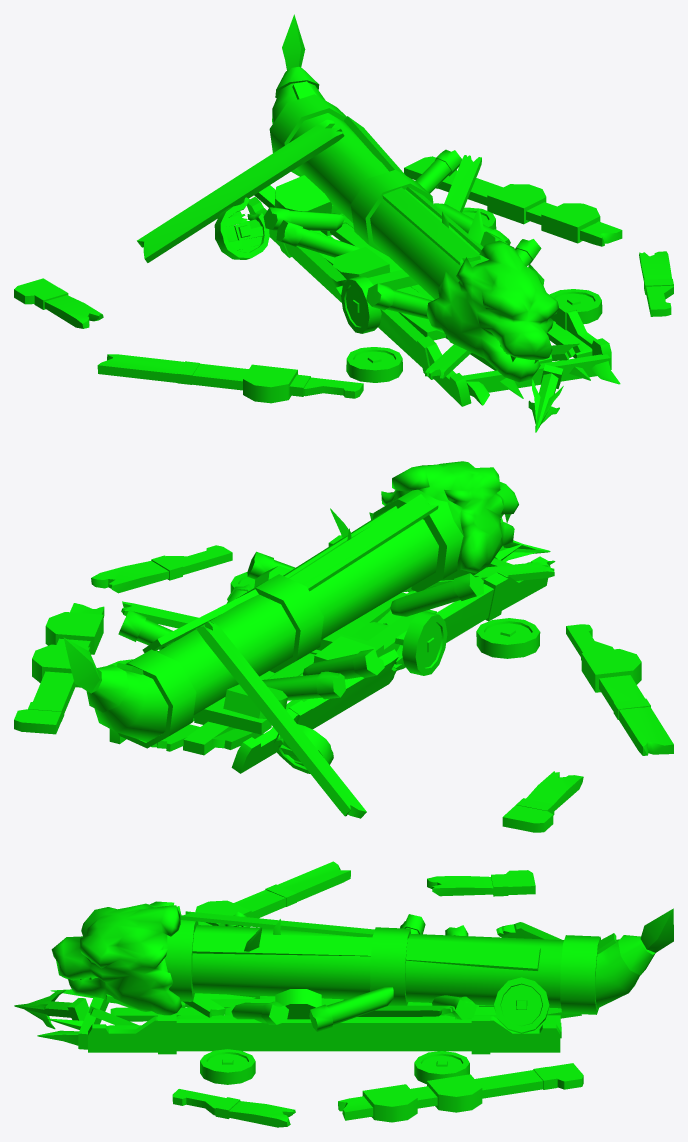
Rendered from xwj_破军物件001_004_hd.glb.
The picture shows the model from 3 angles, top to bottom: view 1: azimuth 30°, elevation 25°; view 2: azimuth 150°, elevation 25°; view 3: azimuth 270°, elevation 25°; orthographic projection. The views are drawn at different scales.
Bounding box in the file's own units: 1522 × 415 × 1638.
